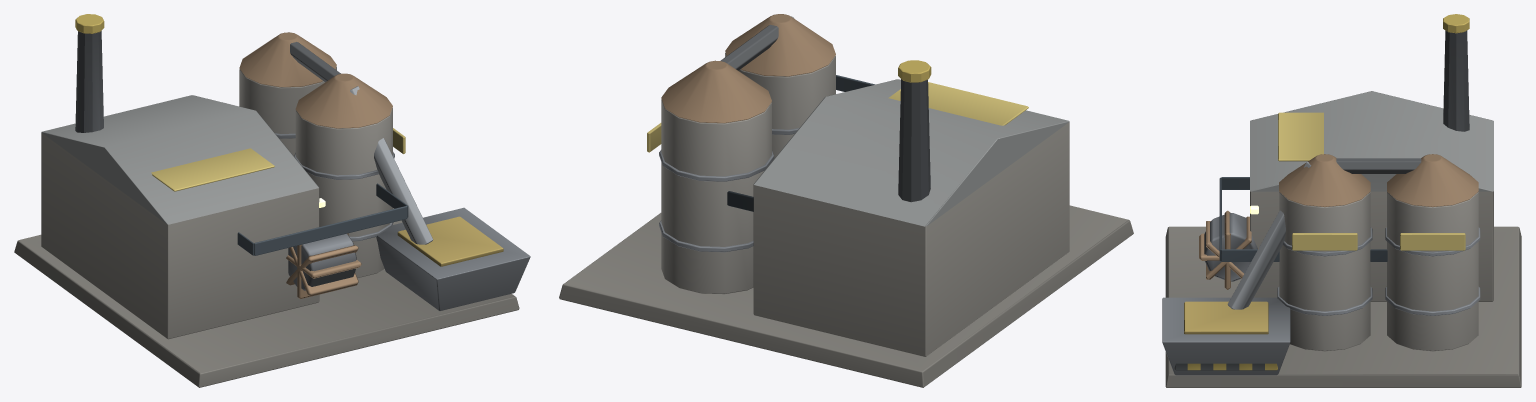
Rendered from refinery.glb.
3 views of the same model, side by side, from view 1: azimuth 30°, elevation 25°; view 2: azimuth 150°, elevation 25°; view 3: azimuth 270°, elevation 25° (orthographic). The views are drawn at different scales.
Visible parts, largest first — view 1: Body, Machinery; view 2: Body; view 3: Body, Machinery.
Part boxes in pixels (box(x1,y1,x2,y2)): Body: box(14, 14, 530, 387); Machinery: box(286, 233, 361, 298); Body: box(559, 14, 1133, 387); Body: box(1162, 14, 1521, 387); Machinery: box(1199, 210, 1258, 289).
Bounding box in the file's own units: 7.81 × 5.6 × 7.66.
